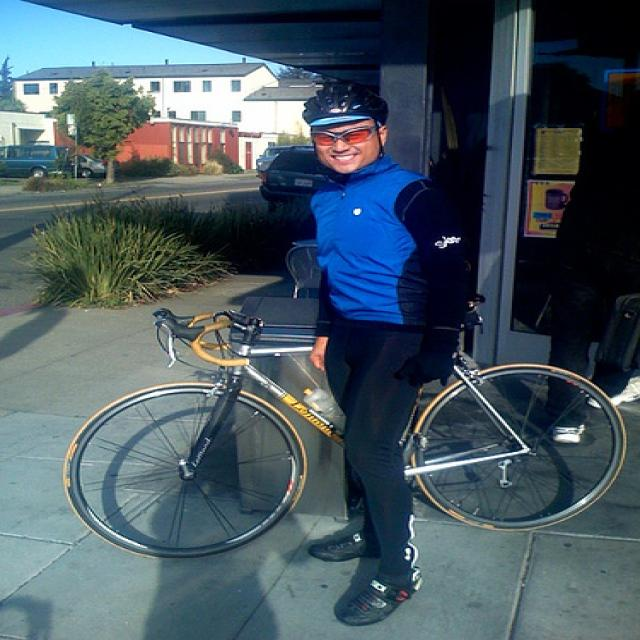light_vehicle: (258, 148, 346, 208), (0, 143, 77, 180), (75, 150, 109, 178), (258, 146, 290, 171)
